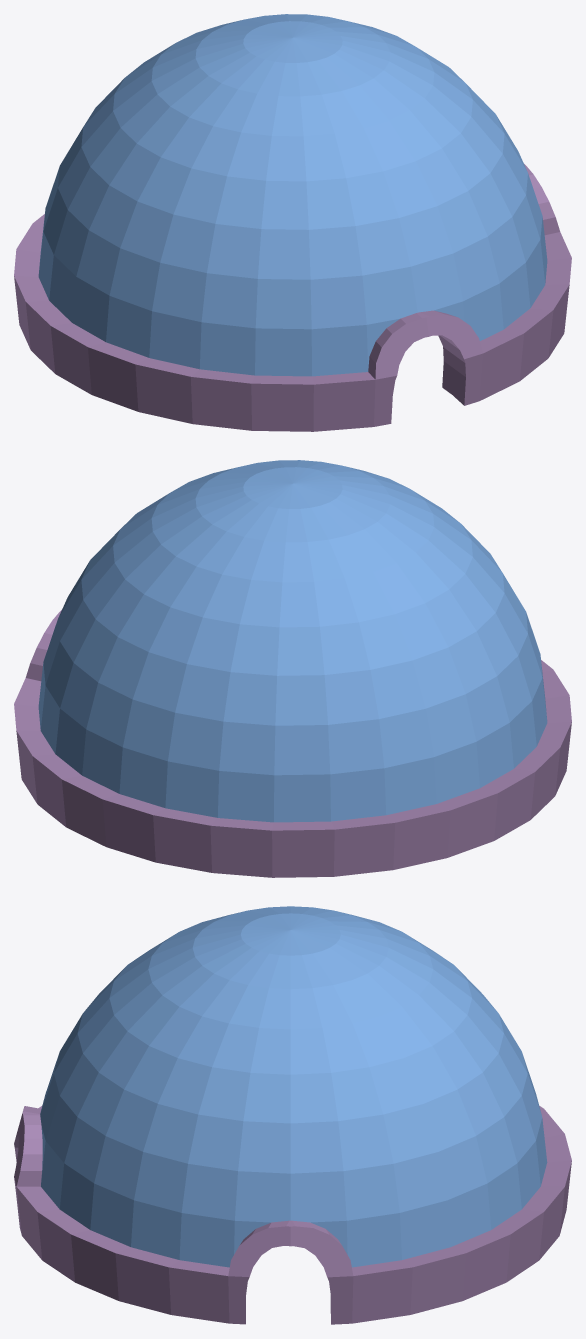
Rendered from cupula 2.fbx.
The picture shows the model from 3 angles, top to bottom: view 1: azimuth 30°, elevation 25°; view 2: azimuth 150°, elevation 25°; view 3: azimuth 270°, elevation 25°; orthographic projection.
Visible parts, largest first — view 1: Sphere.003, Sphere.004; view 2: Sphere.003, Sphere.004; view 3: Sphere.003, Sphere.004.
Boxes of the visible parts, x1,y1,x2,y2 form: Sphere.003: [38, 14, 547, 376]; Sphere.004: [14, 164, 571, 431]; Sphere.003: [38, 460, 547, 822]; Sphere.004: [14, 610, 571, 877]; Sphere.003: [40, 906, 547, 1267]; Sphere.004: [14, 1106, 571, 1324].
Size of the model in its own units: 4299 by 2378 by 4296.
